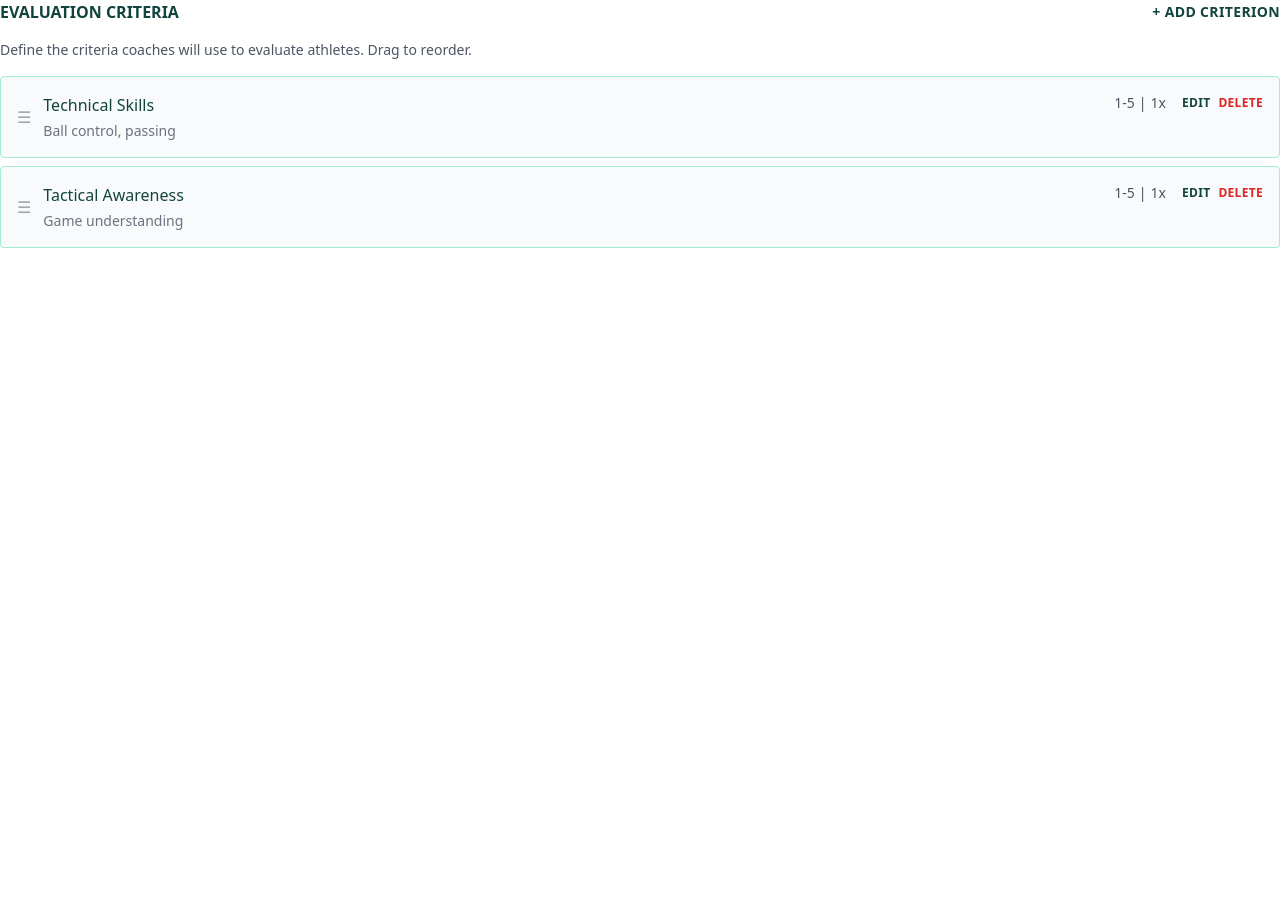
Scenario: EvaluationCriteriaBuilder › opens edit modal when Edit clicked
This screenshot has width=1280, height=900.
Click the button "Edit" in the row of "Technical Skills".
click(1196, 103)  # box [1182, 95, 1210, 111]
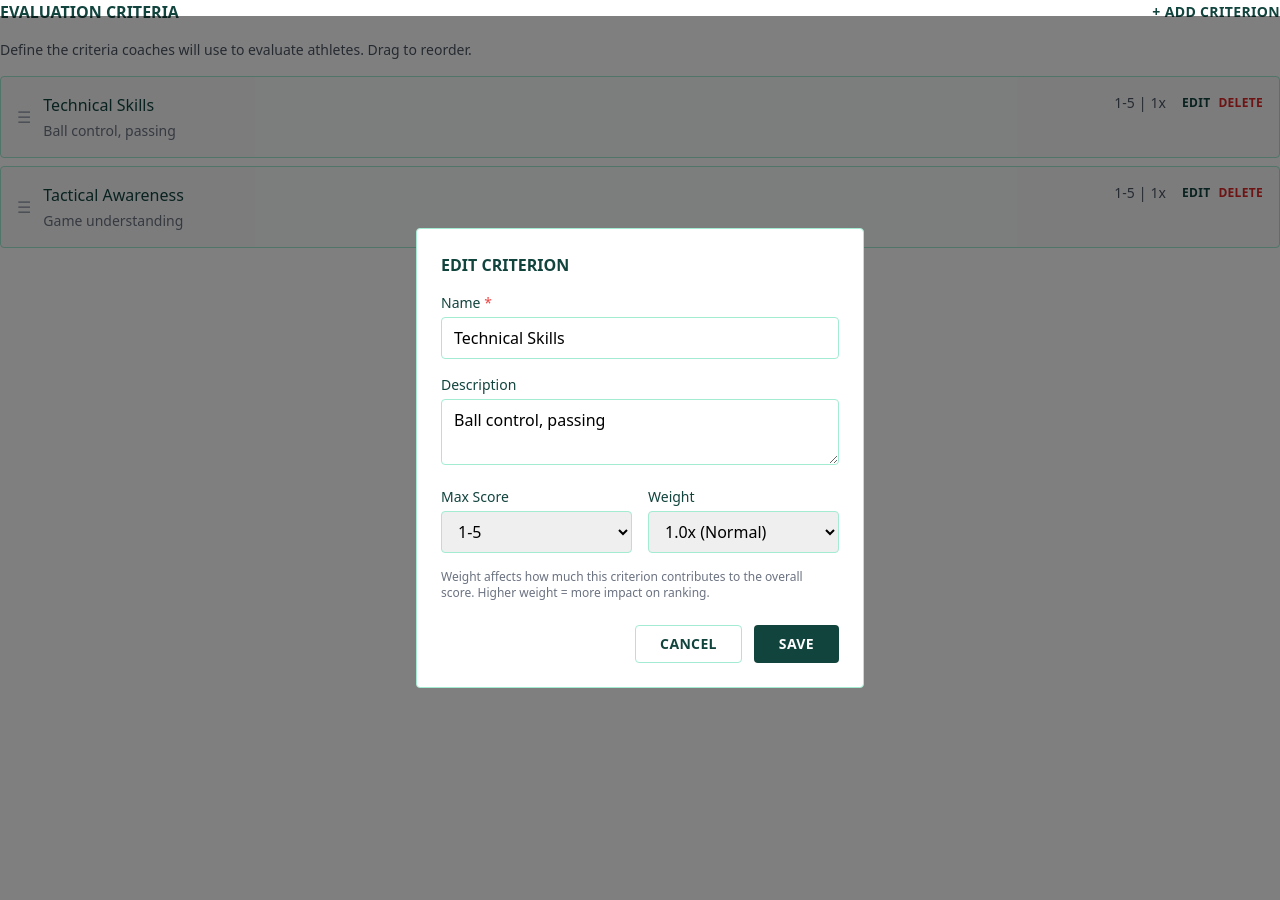
Expected: the heading "Edit Criterion" is shown, [441, 254, 569, 276]
